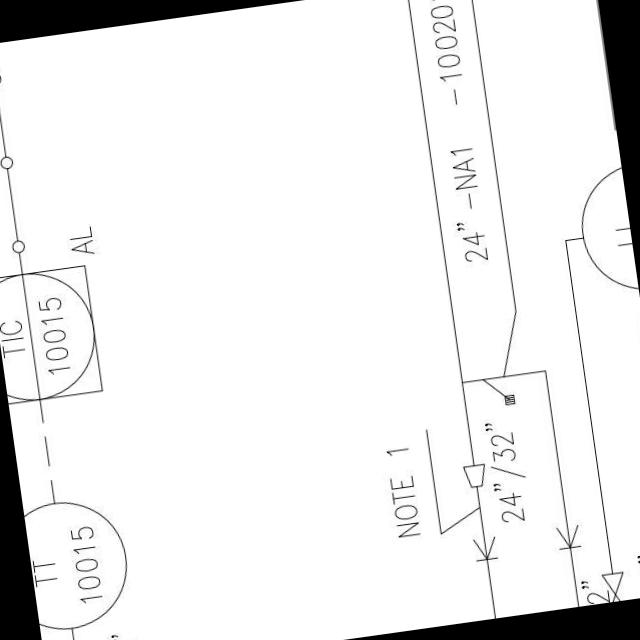SP: (459, 458, 491, 493)
